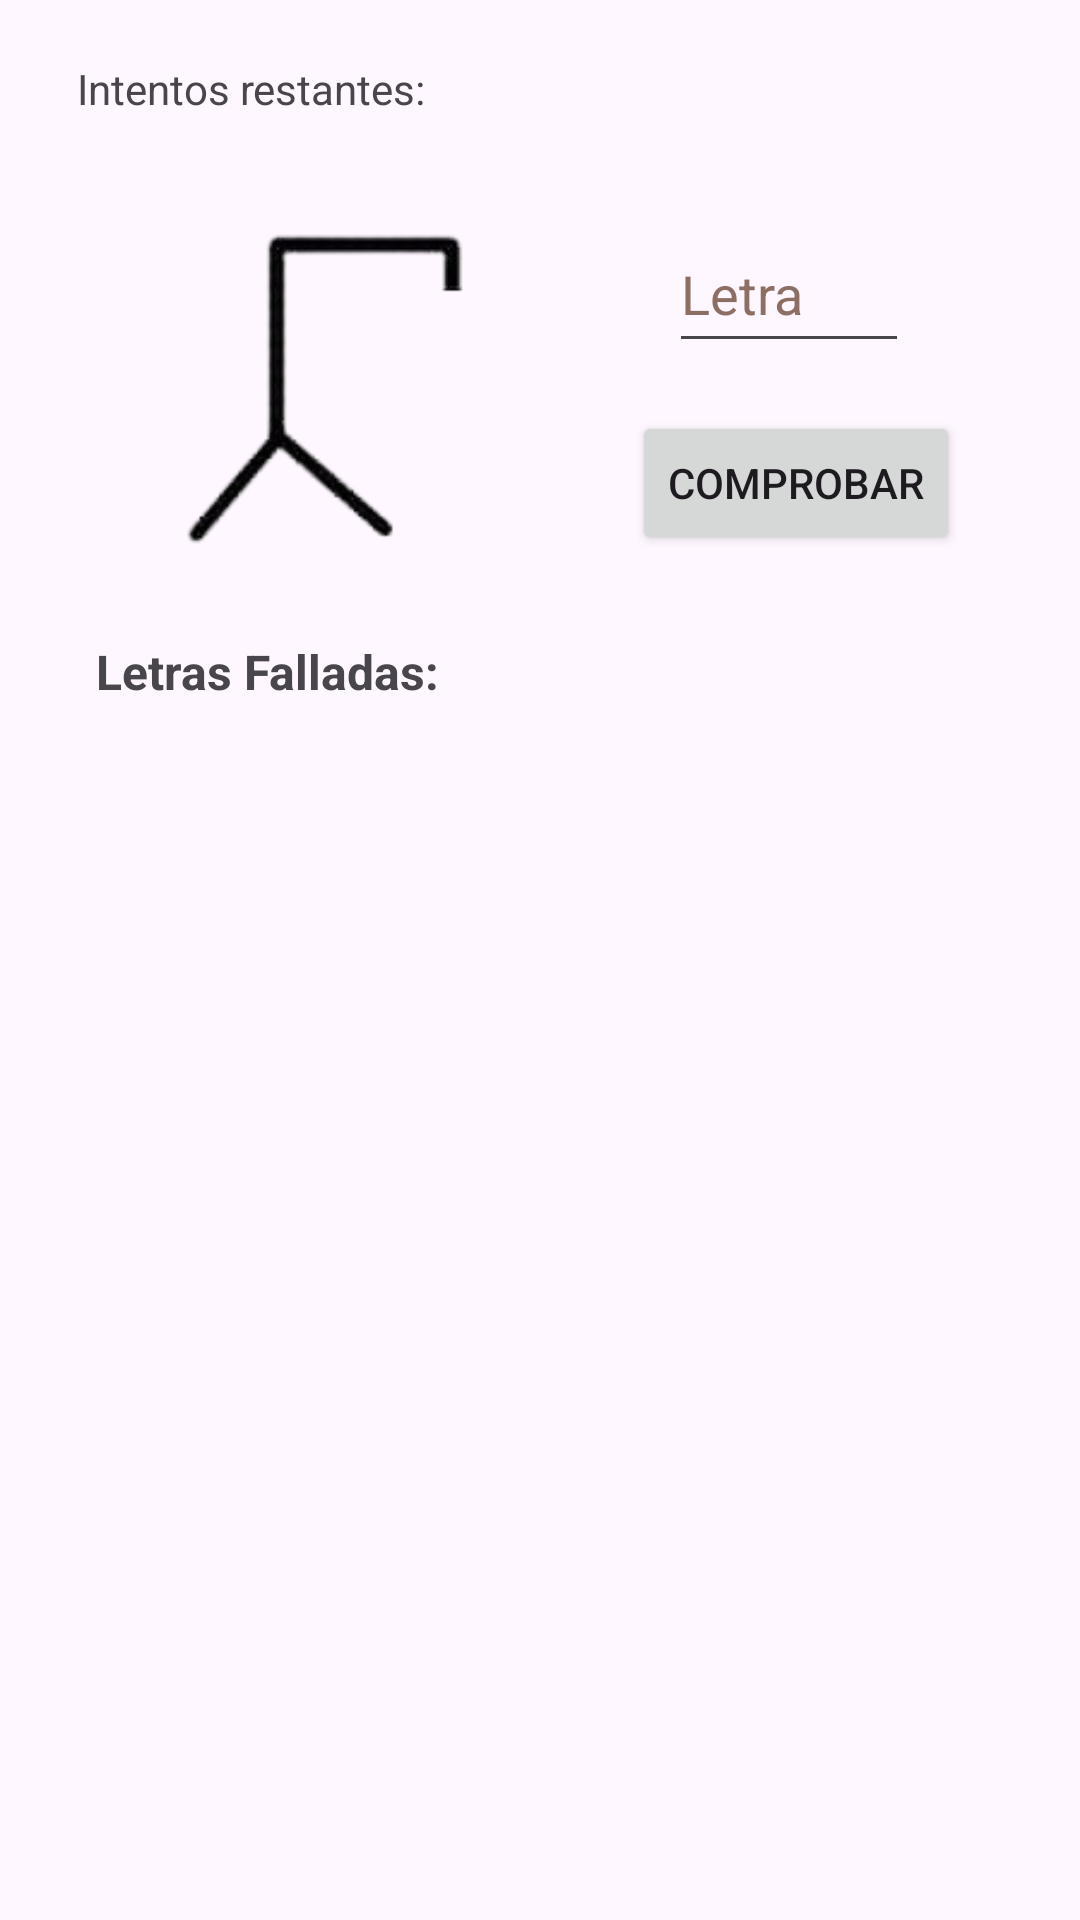

Icons on this 1080×1920 Android screen, each with the point to tap as [x,y]:
Imagen Ahorcado: [325,389]
